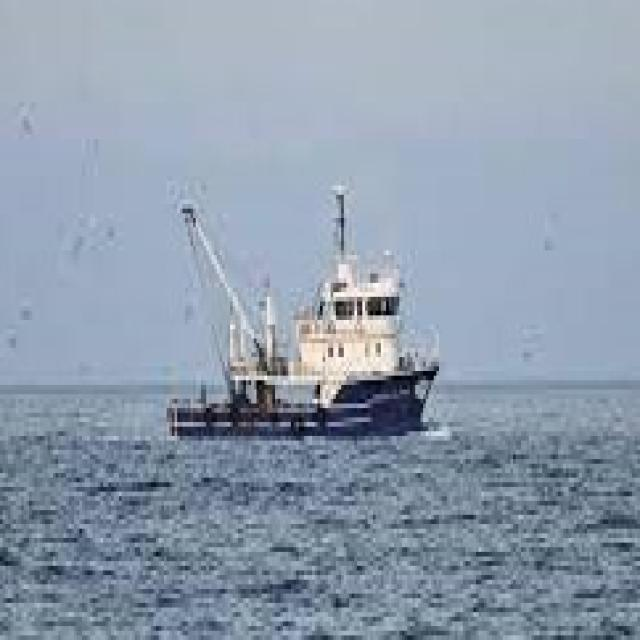fishing boat: (156, 171, 452, 437)
